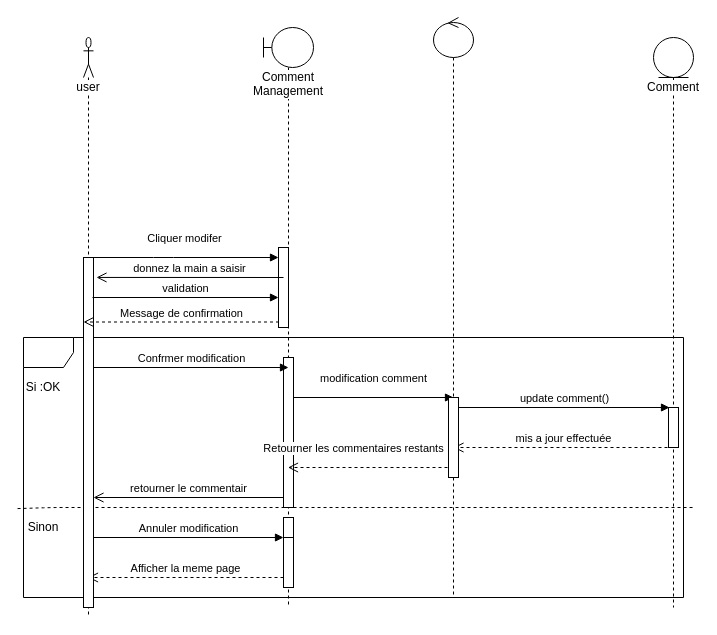
Image size: 717x635. Some labels were removed from this diagram. Each missing label, with the box of its shape:
alt: (22, 336, 684, 598)
Comment Management controller: (432, 16, 474, 598)
